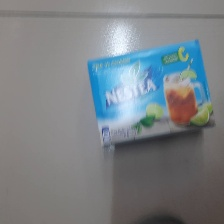Nestea: (85, 38, 218, 151)
